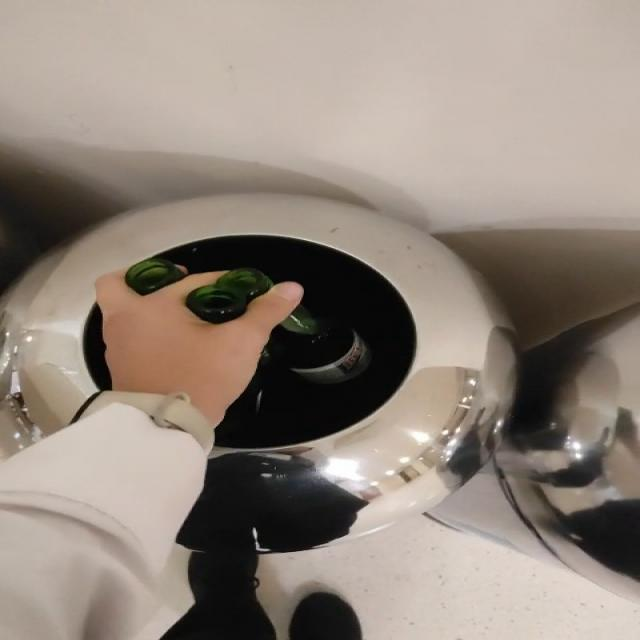bin: (1, 194, 516, 553)
glass: (227, 306, 371, 420), (187, 269, 273, 324), (124, 257, 187, 295)
